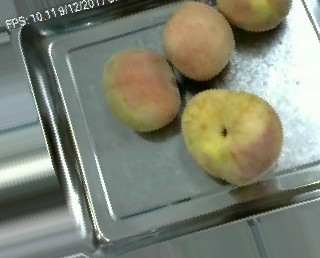Peach: (180, 88, 283, 183), (102, 47, 180, 133), (160, 2, 232, 79)
